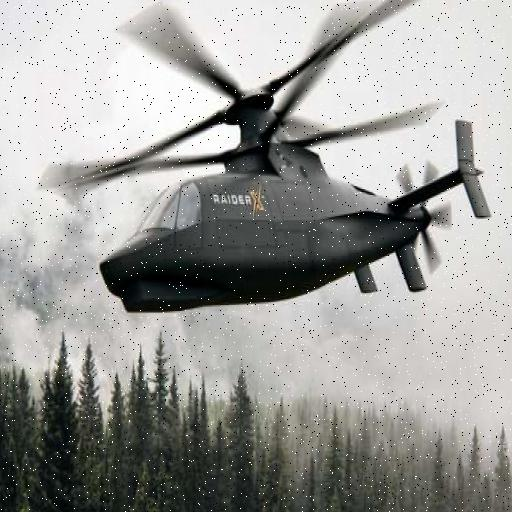helicopter: (38, 1, 500, 324)
